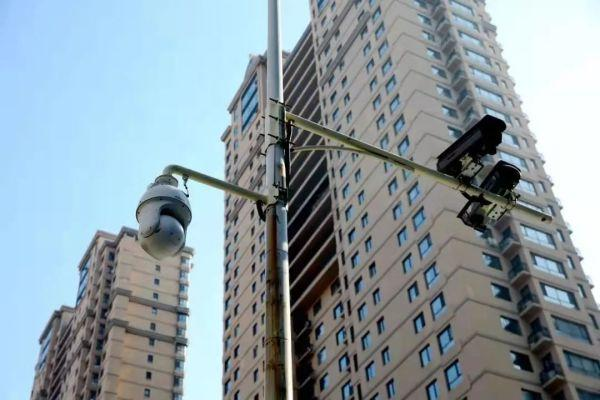camera: (136, 173, 185, 259), (464, 160, 522, 229), (438, 122, 506, 173)
